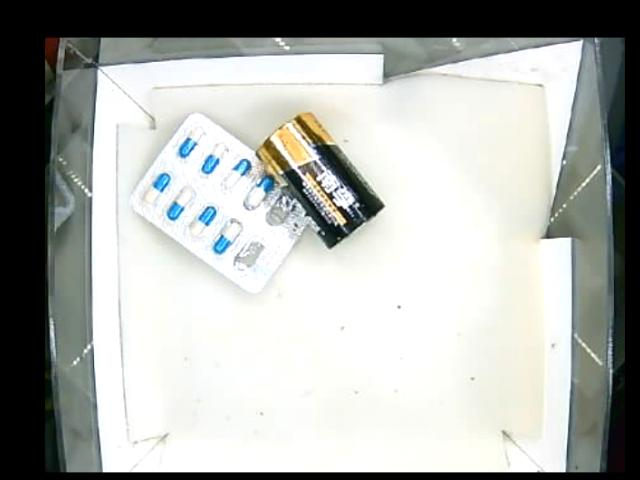Battery: (258, 111, 386, 252)
Medicine: (132, 110, 313, 292)
